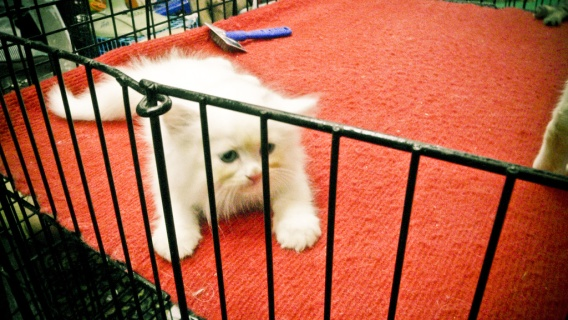Cat: (45, 51, 320, 260)
